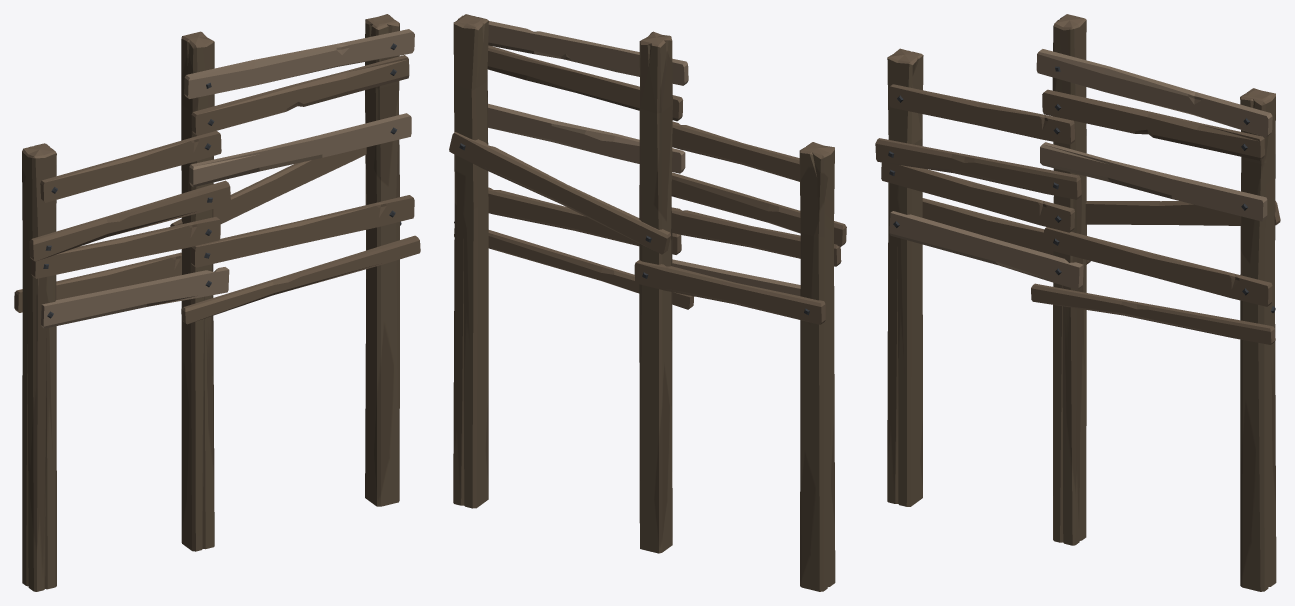
The model's file is env_structure.gltf.
3 renders of one model, left to right at view 1: azimuth 30°, elevation 25°; view 2: azimuth 150°, elevation 25°; view 3: azimuth 330°, elevation 25°, orthographic. The views are drawn at different scales.
Visible parts, largest first — view 1: env_structure; view 2: env_structure; view 3: env_structure.
Boxes of the visible parts, x1,y1,x2,y2 form: env_structure: (14, 14, 420, 591); env_structure: (449, 14, 846, 591); env_structure: (875, 14, 1280, 591).
Bounding box in the file's own units: 3.8 × 4.76 × 0.404.
Materials: 1 (1 with a texture image).
